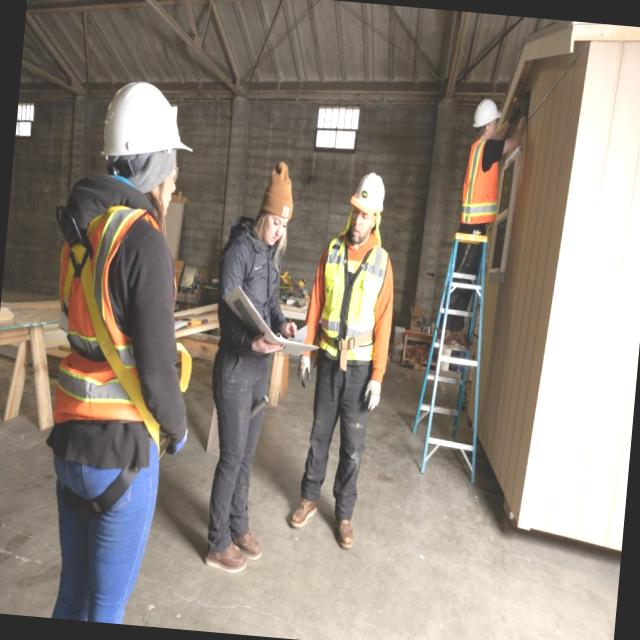goggles: (162, 165, 186, 183)
helmet: (94, 76, 200, 169), (347, 171, 386, 218), (470, 92, 504, 134)
no-goggles: (261, 209, 297, 233), (348, 207, 382, 227)
no-helmet: (256, 155, 302, 213)
no-vest: (210, 244, 286, 382)
vest: (47, 198, 168, 428), (311, 232, 393, 370), (458, 135, 510, 233)
